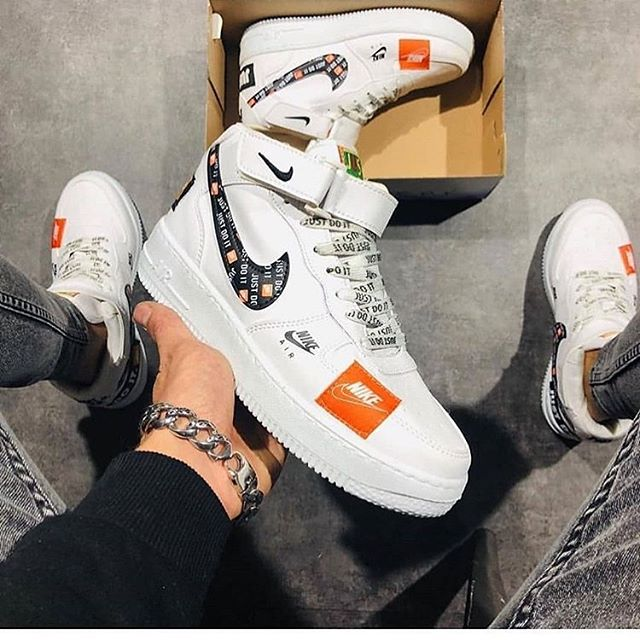nike: (209, 155, 294, 313)
